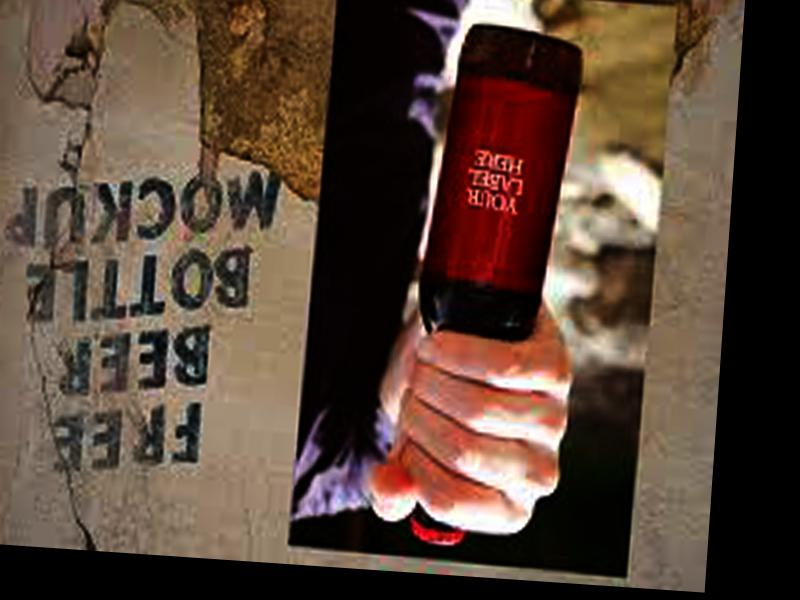Beer: (407, 22, 584, 551)
